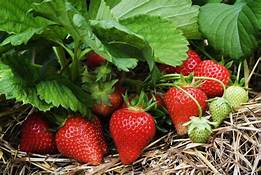Fresa: (51, 108, 112, 168), (107, 101, 160, 167), (163, 79, 211, 138), (17, 113, 60, 157), (191, 56, 234, 99)
